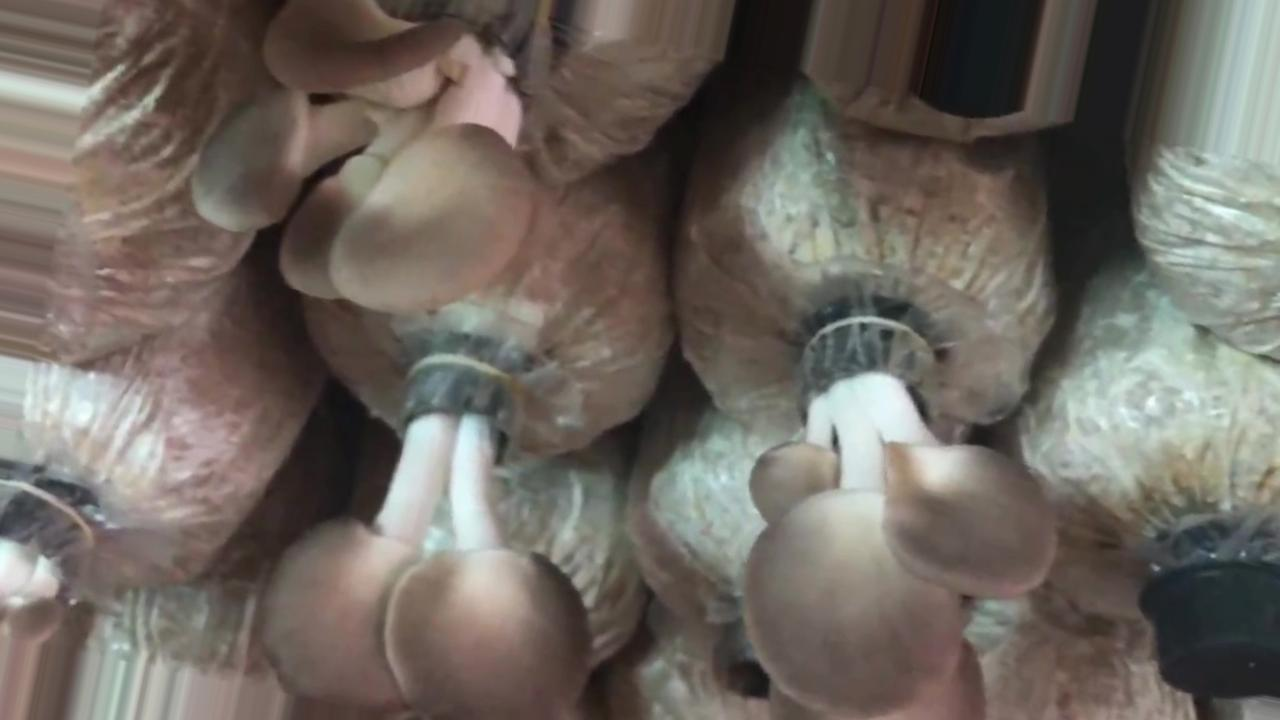nam: (746, 318, 1055, 720), (265, 359, 588, 720), (191, 1, 538, 314)
